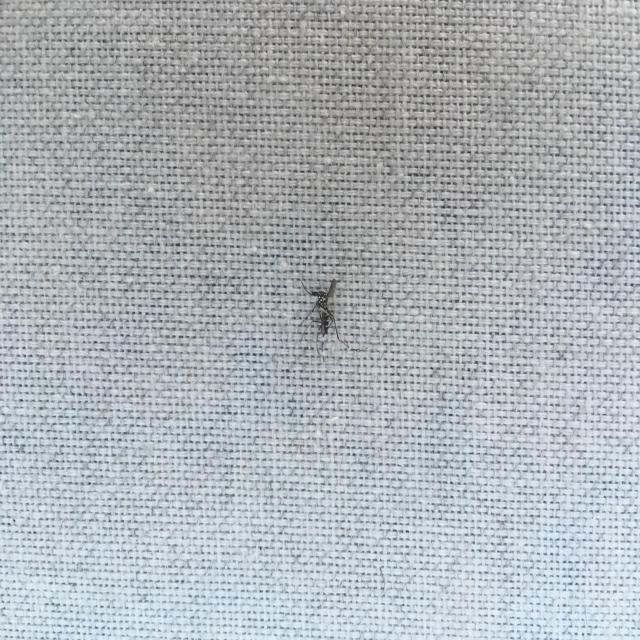albopictus: (293, 271, 356, 358)
